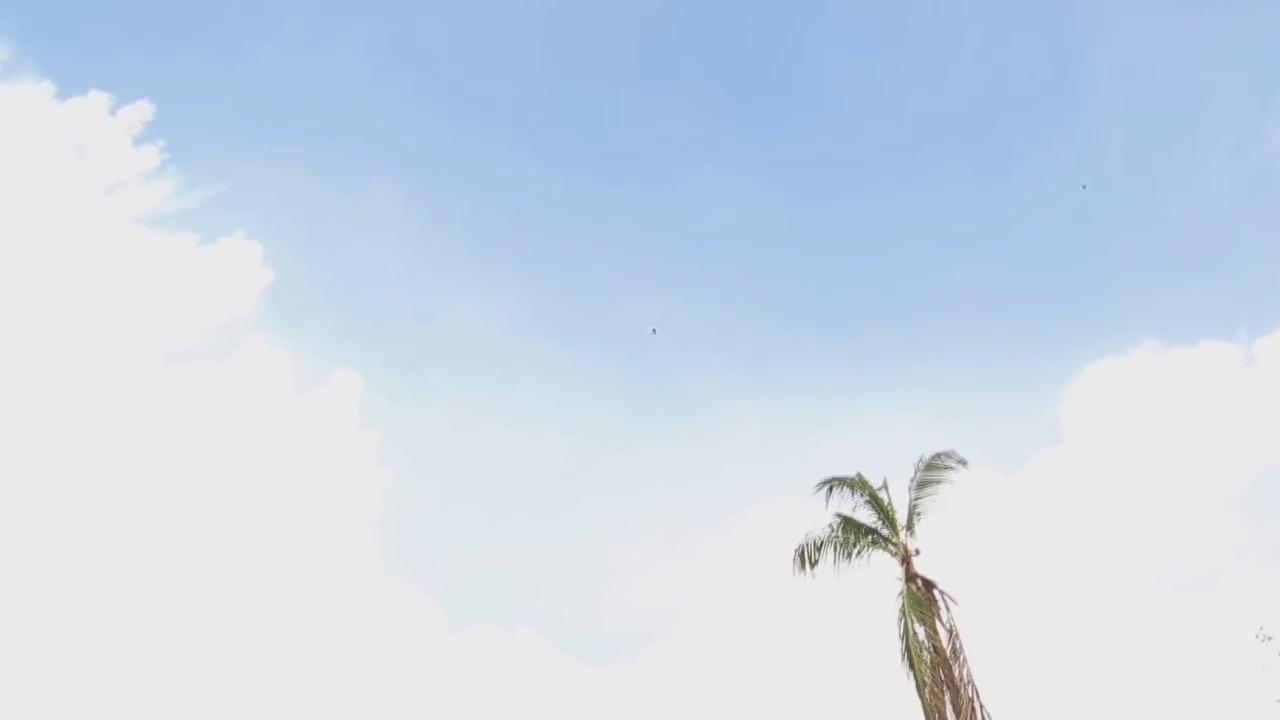drone: (643, 324, 665, 338)
